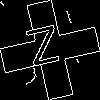Z: (25, 25, 65, 76)
